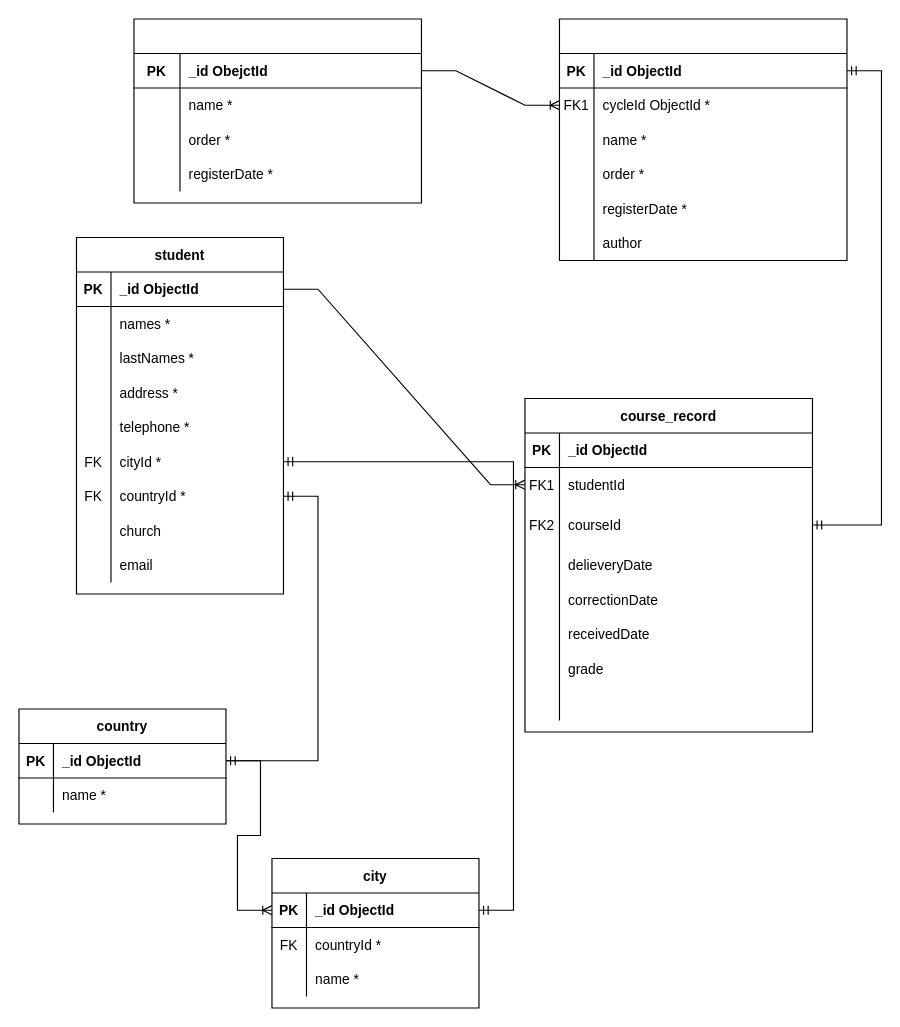
Some shapes in this 900 by 1027 pixel diagram are drawn without their labels. Each missing label, with the box of its shape:
course: (558, 18, 847, 260)
cycle: (133, 18, 421, 203)
